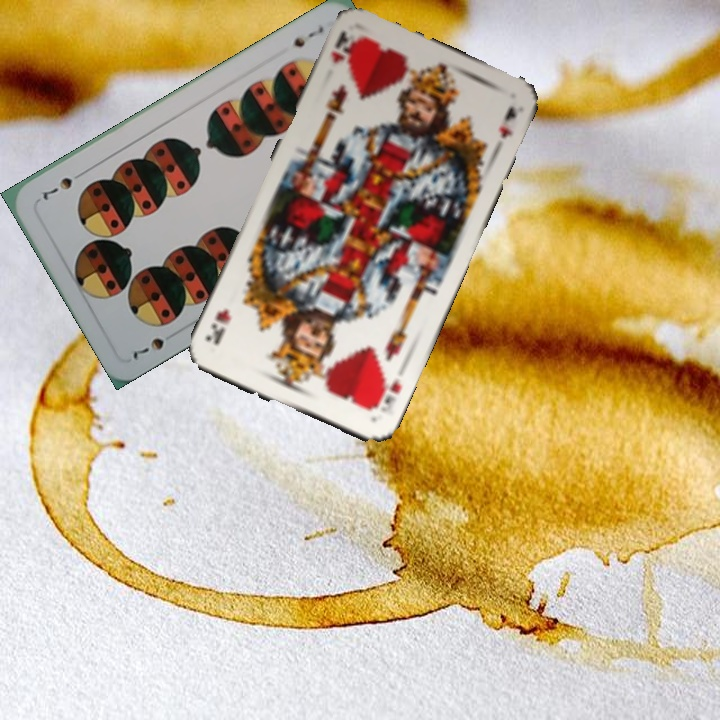HK: (367, 373, 405, 418), (326, 27, 355, 66)
S7: (128, 333, 167, 362), (289, 22, 326, 51)
